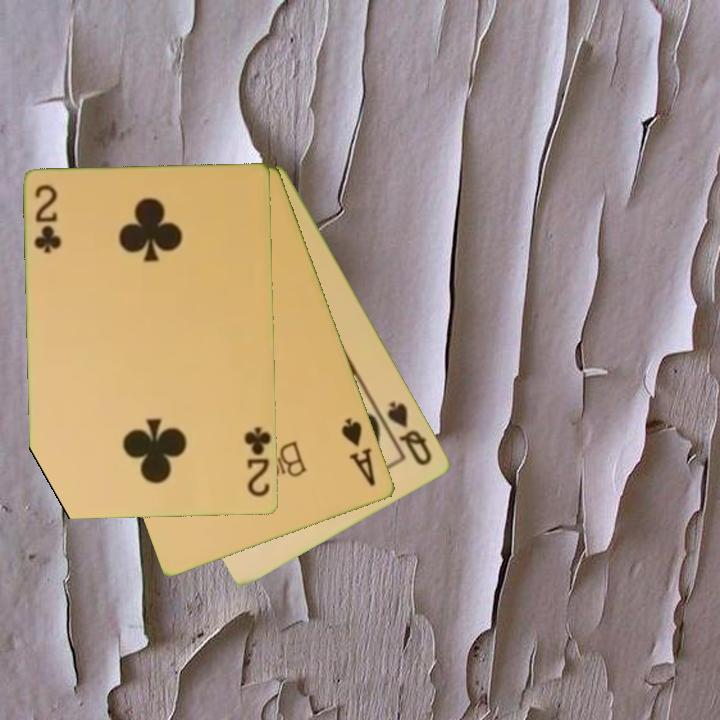2c: (241, 423, 274, 500), (31, 182, 63, 257)
As: (338, 414, 379, 490)
Qs: (384, 397, 436, 469)
